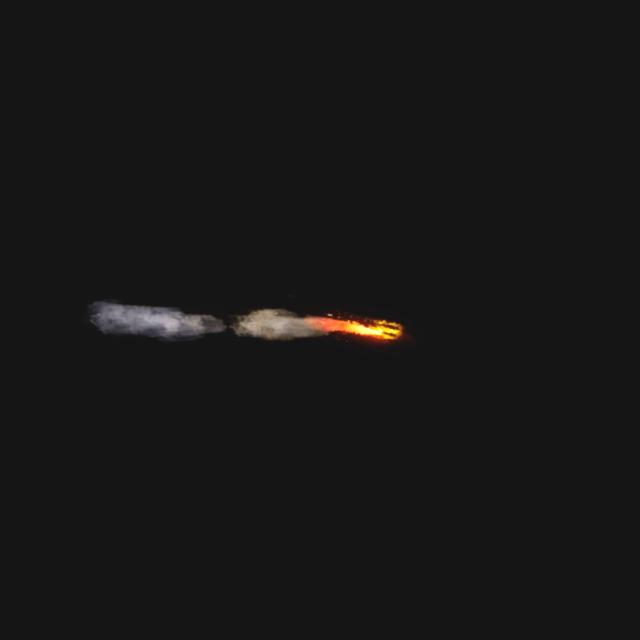fire: (305, 302, 403, 348)
smoke: (90, 276, 316, 366)
